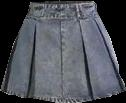Hemline: (0, 89, 125, 102)
Waistline: (27, 13, 98, 19), (31, 0, 93, 4)
